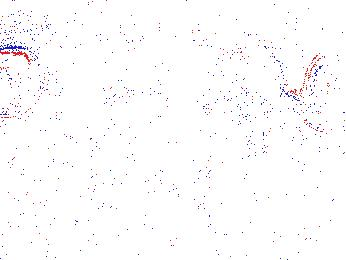moon jellyfish: (198, 34, 285, 102), (89, 89, 171, 148), (298, 44, 346, 133), (1, 47, 46, 119)
